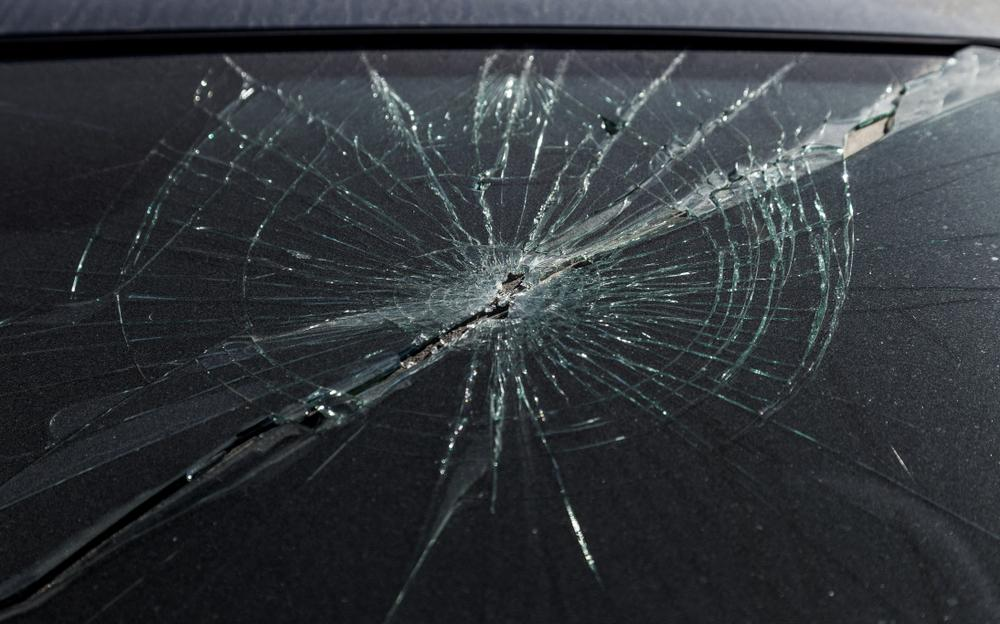glass shatter: (0, 26, 1000, 624)
